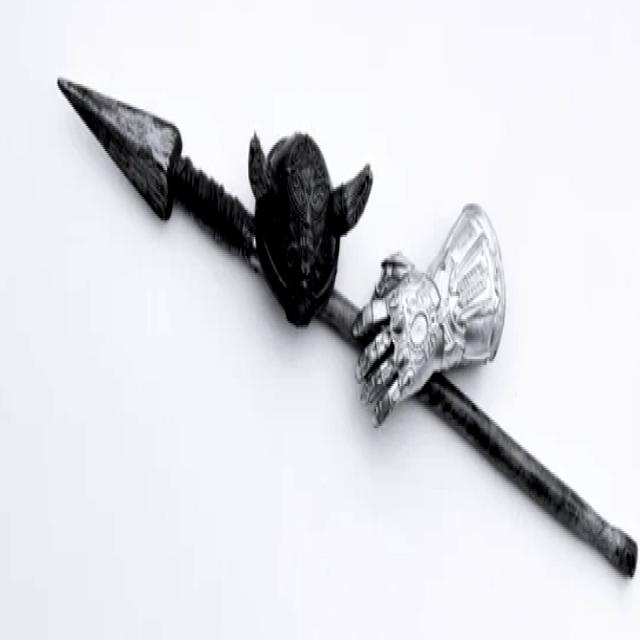spear: (38, 49, 639, 594)
